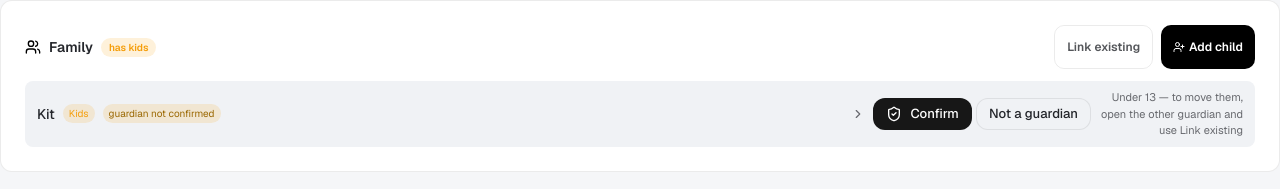
Family card — guardian suggestions › Confirm posts to the CHILD's guardian route and the pill clears
Click the button with aria-label "Confirm Pat as Kit's guardian": click(923, 114) [874,98,972,130]
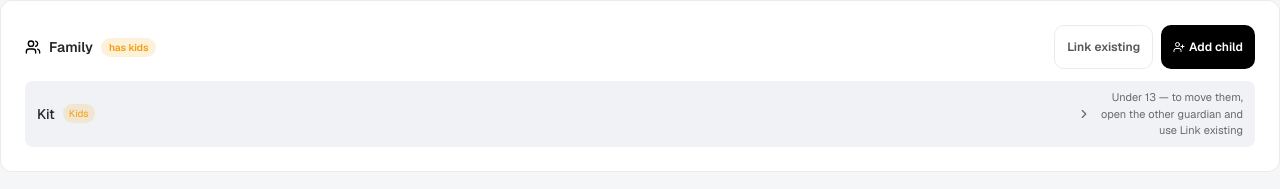
expect the text "guardian not confirmed" is gone: met
